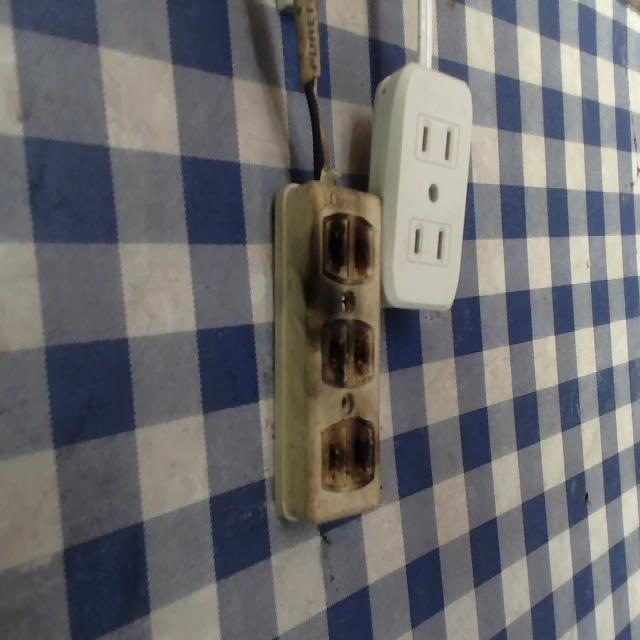-: (315, 408, 376, 492), (320, 207, 379, 290), (319, 310, 371, 390)
